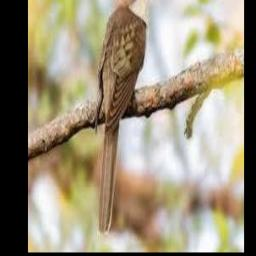Cuckoo: (96, 0, 158, 235)
